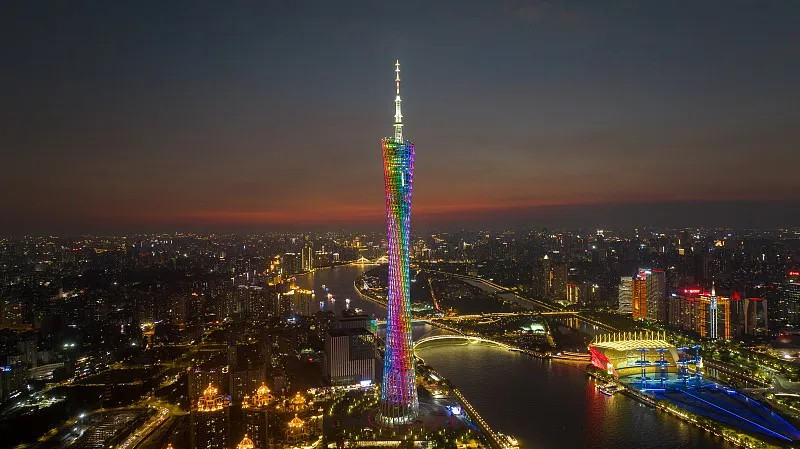Canton: (371, 56, 425, 428)
